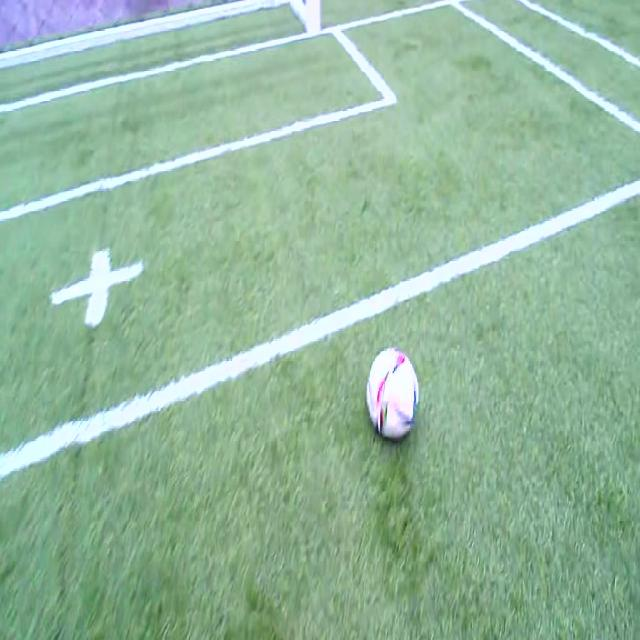ball: (366, 348, 419, 442)
